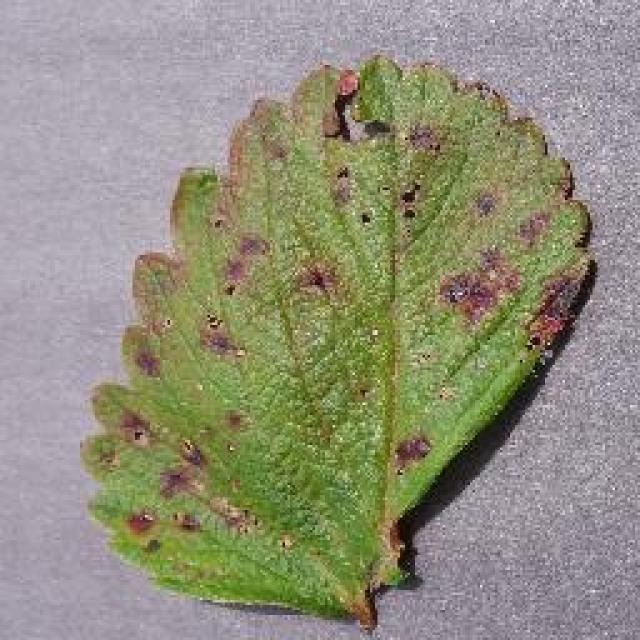Strawberry leaf scorch: (192, 146, 526, 432)
